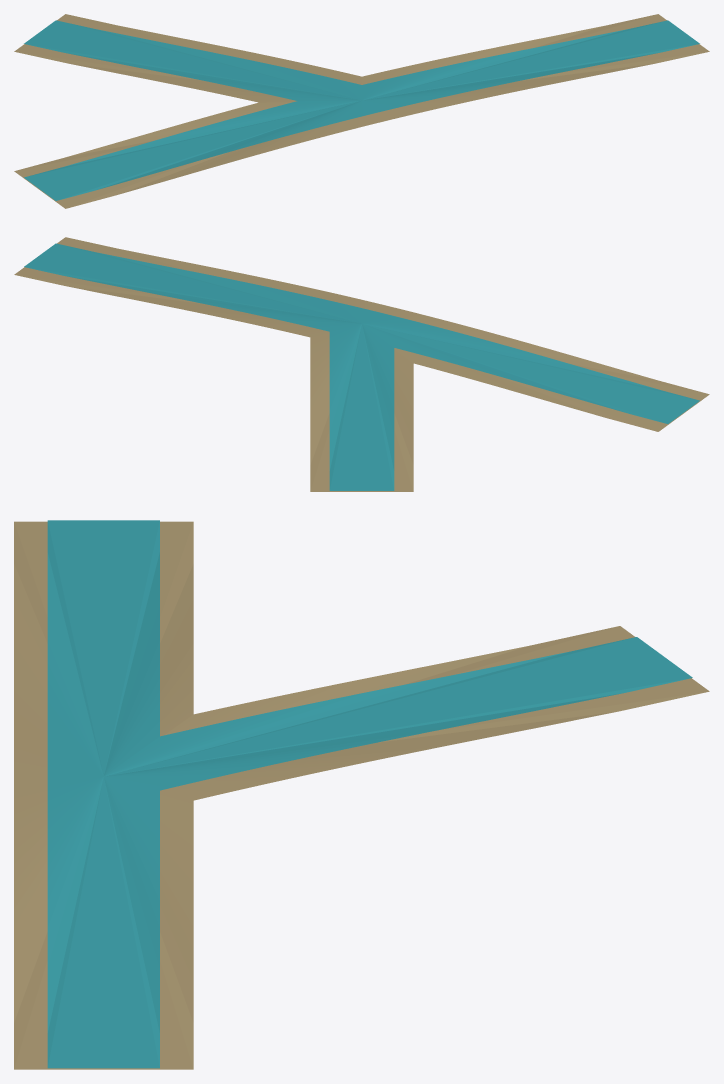
Rendered from RIVER_13.fbx.
3 renders of one model, top to bottom at view 1: azimuth 30°, elevation 25°; view 2: azimuth 150°, elevation 25°; view 3: azimuth 270°, elevation 25°, orthographic. The views are drawn at different scales.
Visible parts, largest first — view 1: Channel_surface.013, Channel_surface.012; view 2: Channel_surface.013, Channel_surface.012; view 3: Channel_surface.013, Channel_surface.012.
Boxes of the visible parts, x1=… form: Channel_surface.013: x1=24, y1=20, x2=699, y2=200; Channel_surface.012: x1=14, y1=14, x2=709, y2=208; Channel_surface.013: x1=24, y1=243, x2=699, y2=490; Channel_surface.012: x1=14, y1=237, x2=709, y2=491; Channel_surface.013: x1=47, y1=520, x2=692, y2=1068; Channel_surface.012: x1=14, y1=521, x2=709, y2=1069.
Bounding box in the file's own units: 173 × 2.8 × 93.
